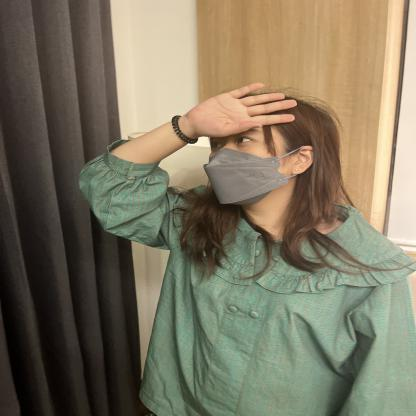Sick: (10, 8, 314, 252)
